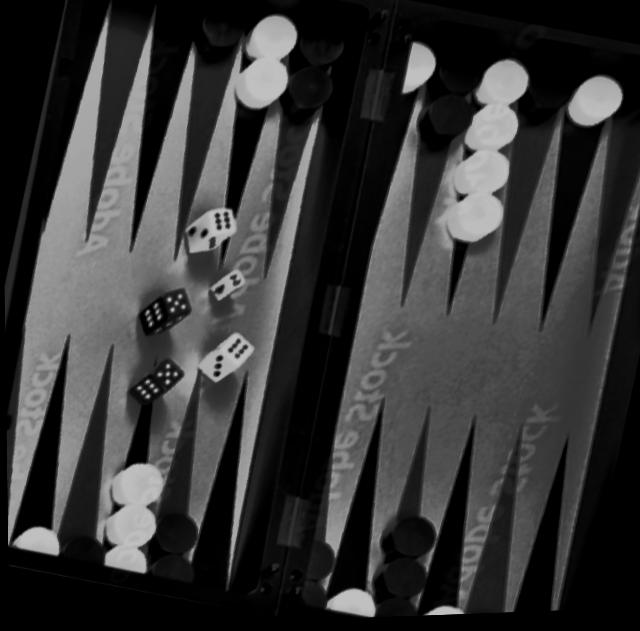bar: (240, 9, 424, 595)
board: (0, 0, 640, 631)
dark_p: (513, 58, 580, 133), (411, 86, 482, 154), (274, 59, 343, 127), (288, 10, 353, 76), (185, 0, 252, 64), (428, 42, 491, 104), (376, 508, 439, 569), (147, 505, 202, 563), (299, 532, 340, 585), (56, 526, 104, 568), (150, 551, 196, 588), (370, 594, 418, 620), (293, 576, 326, 610), (460, 606, 512, 618)
dice: (126, 274, 202, 349), (188, 325, 262, 395), (118, 347, 190, 418), (176, 199, 243, 266), (205, 259, 251, 310)
light_p: (438, 184, 512, 255), (456, 93, 531, 163), (225, 48, 295, 121), (444, 140, 516, 210), (236, 4, 306, 74), (561, 67, 629, 138), (468, 48, 535, 117), (101, 453, 169, 516), (93, 493, 159, 551), (319, 577, 377, 622), (6, 513, 64, 558), (403, 39, 443, 100), (96, 539, 154, 581), (415, 600, 470, 619)
